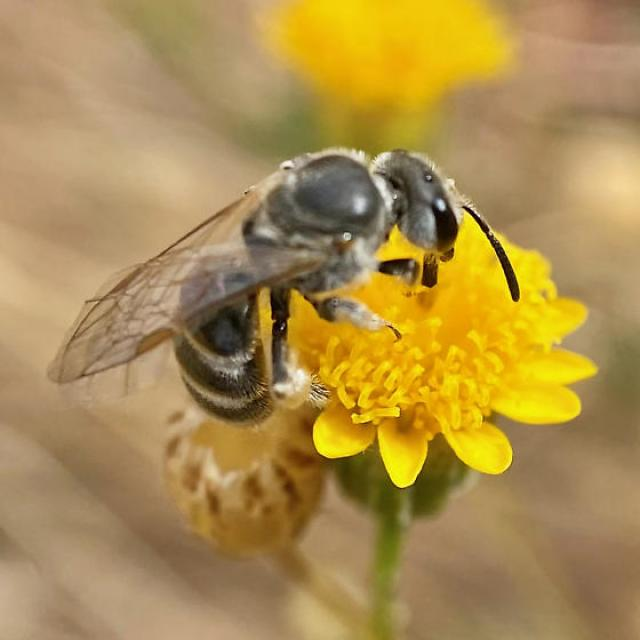Lasioglossum: (67, 133, 494, 431)
